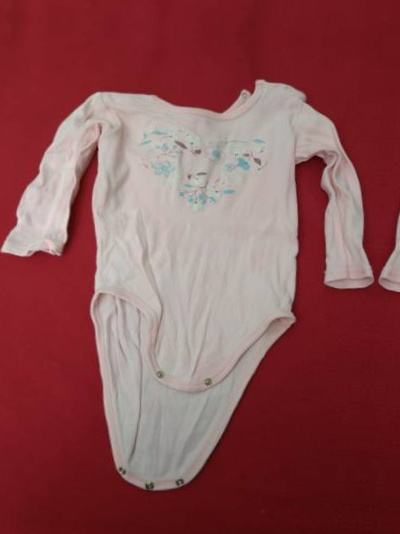Body: (0, 48, 384, 497), (369, 79, 400, 528), (2, 0, 400, 12)
